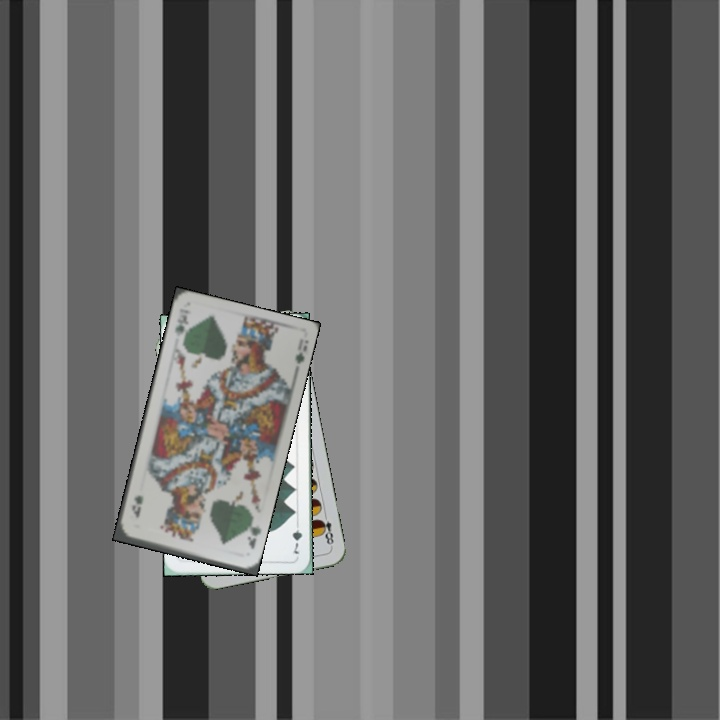E8: (315, 510, 336, 550)
G7: (288, 517, 305, 557)
GK: (243, 521, 263, 552), (171, 310, 191, 339)
